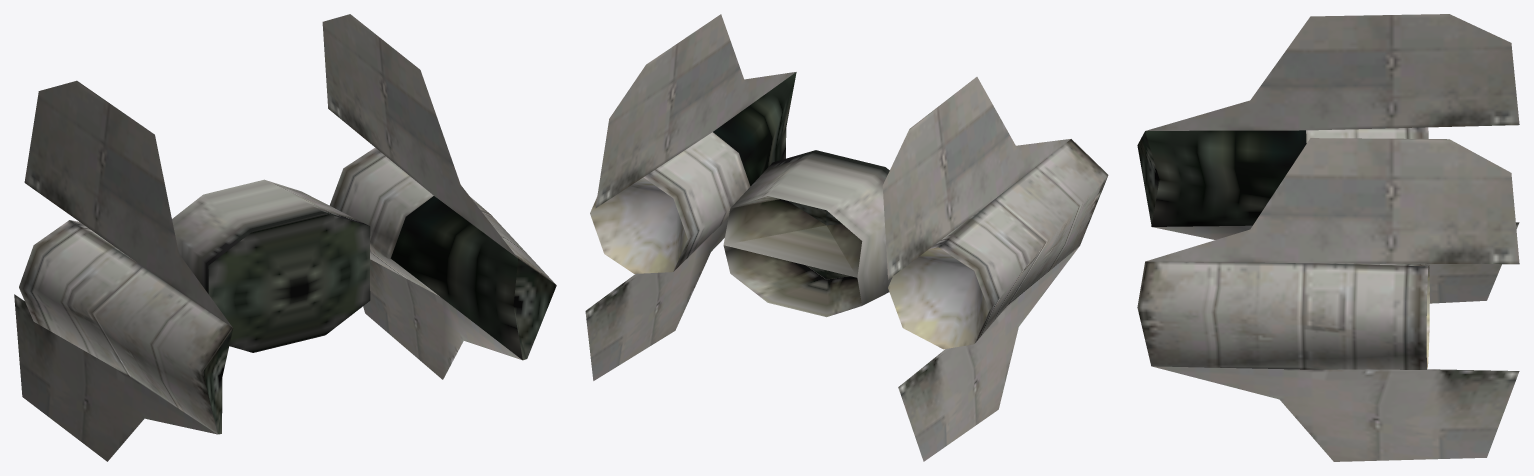
The model's file is awing_engine_s01_l3.fbx.
3 renders of one model, left to right at view 1: azimuth 30°, elevation 25°; view 2: azimuth 150°, elevation 25°; view 3: azimuth 270°, elevation 25°, orthographic. The views are drawn at different scales.
Parts seen in each view (by area): view 1: mesh_node; view 2: mesh_node; view 3: mesh_node.
Boxes of the visible parts, x1=… form: mesh_node: x1=14, y1=14, x2=556, y2=461; mesh_node: x1=585, y1=14, x2=1108, y2=461; mesh_node: x1=1137, y1=14, x2=1519, y2=461.
Bounding box in the file's own units: 6.53 × 4.95 × 5.56.
1 material, 1 textured.
